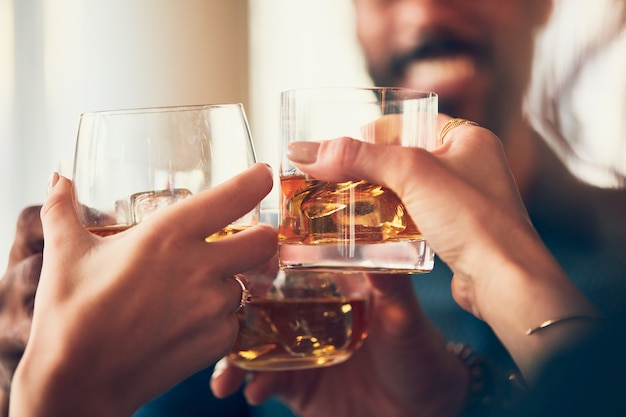alcohol: (278, 82, 439, 274), (67, 101, 260, 256), (220, 200, 373, 377)
